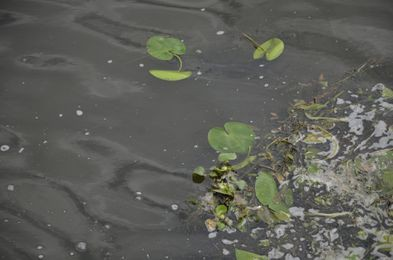water_hyacinth: (146, 31, 353, 246)
